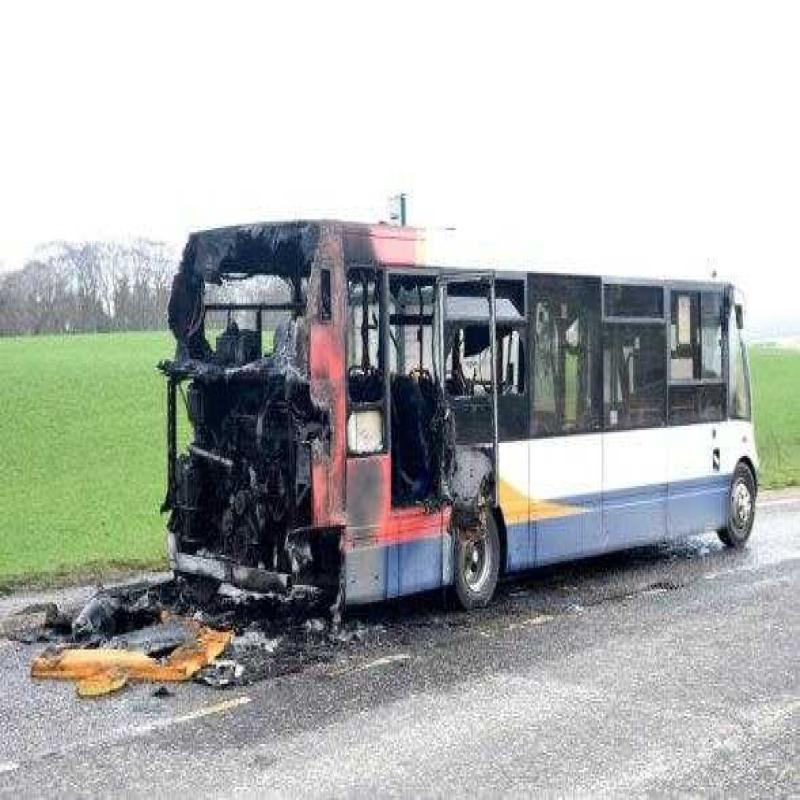bus: (188, 162, 753, 562)
